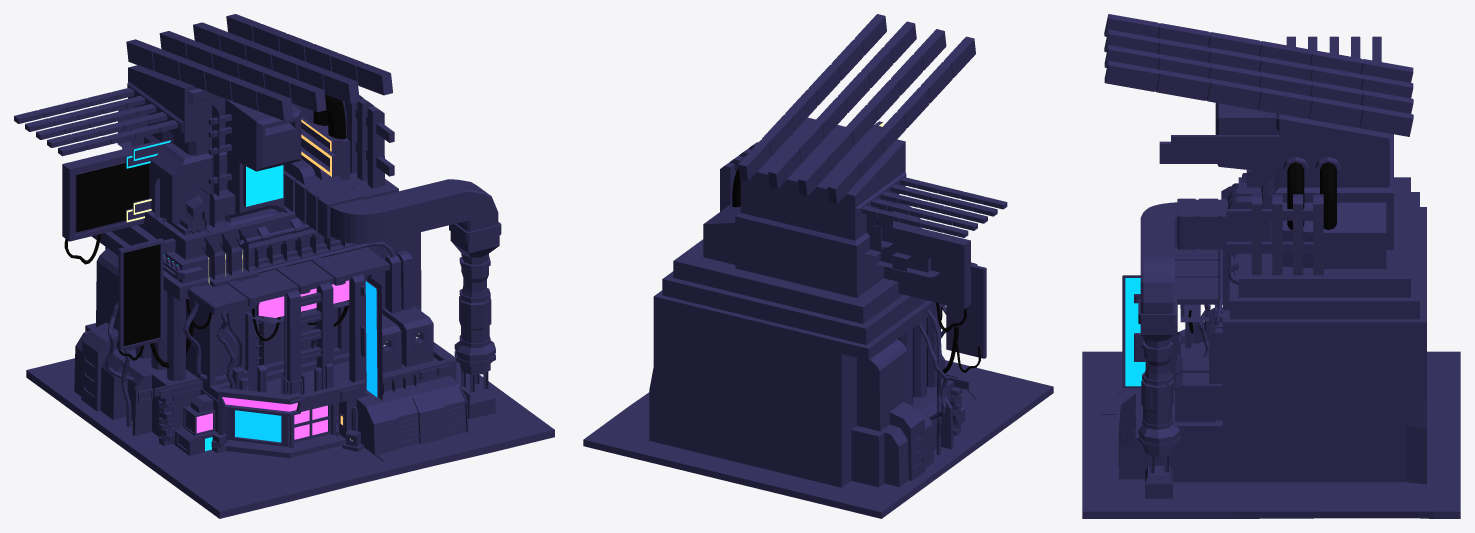
File: Cyber.glb
3 renders of one model, left to right at view 1: azimuth 30°, elevation 25°; view 2: azimuth 150°, elevation 25°; view 3: azimuth 270°, elevation 25°, orthographic. The views are drawn at different scales.
Visible parts, largest first — view 1: Cube.001; view 2: Cube.001; view 3: Cube.001.
Boxes of the visible parts, x1,y1,x2,y2 form: Cube.001: [14, 14, 554, 518]; Cube.001: [583, 14, 1053, 518]; Cube.001: [1082, 14, 1460, 518].
Size of the model in its own units: 8.47 by 8.16 by 7.31.
